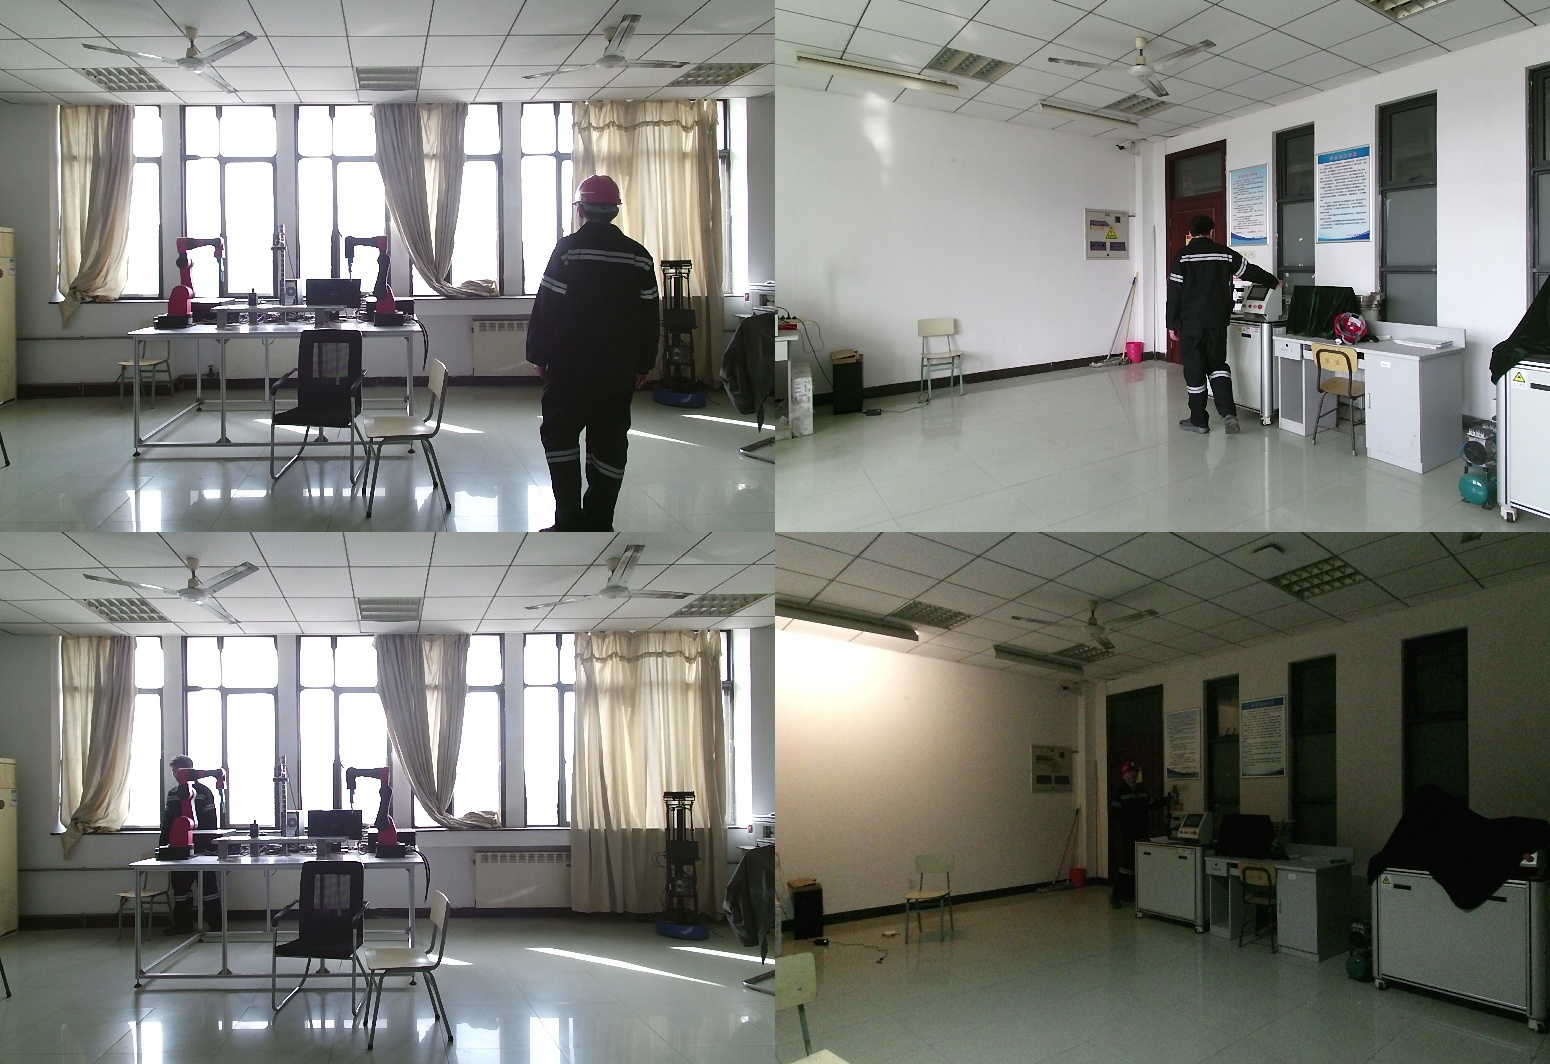person: (532, 174, 677, 532), (1176, 217, 1282, 435), (157, 755, 226, 943), (1106, 761, 1169, 913)
